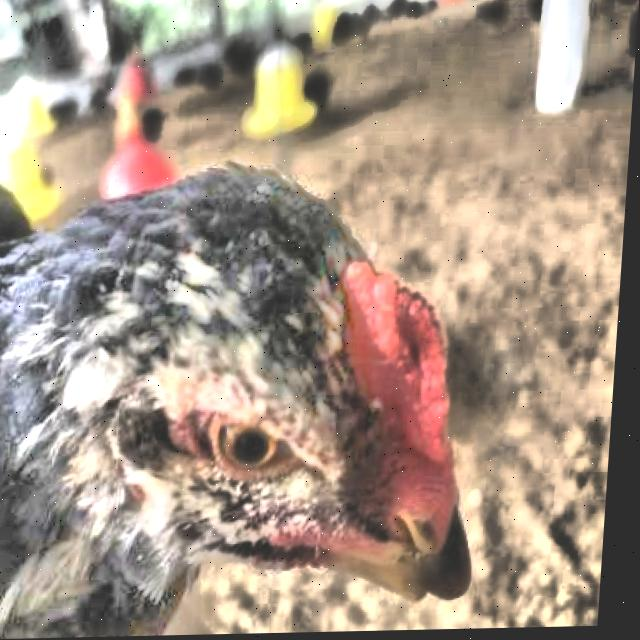Healthy: (194, 394, 308, 484)
